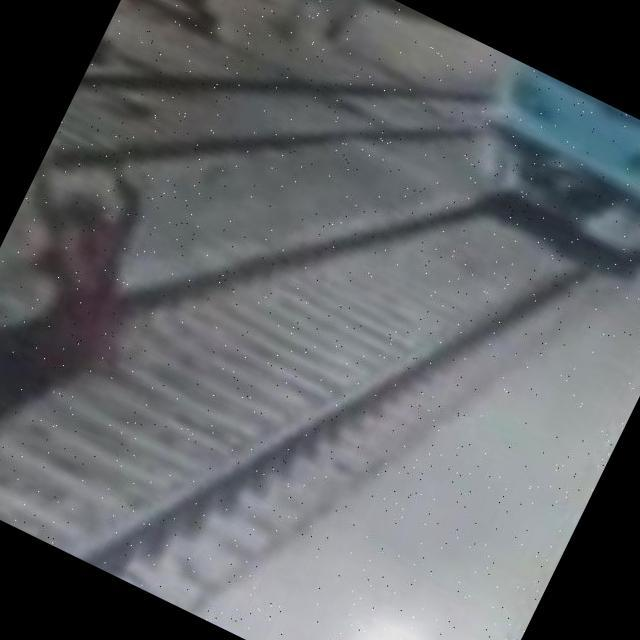person: (0, 115, 297, 525)
